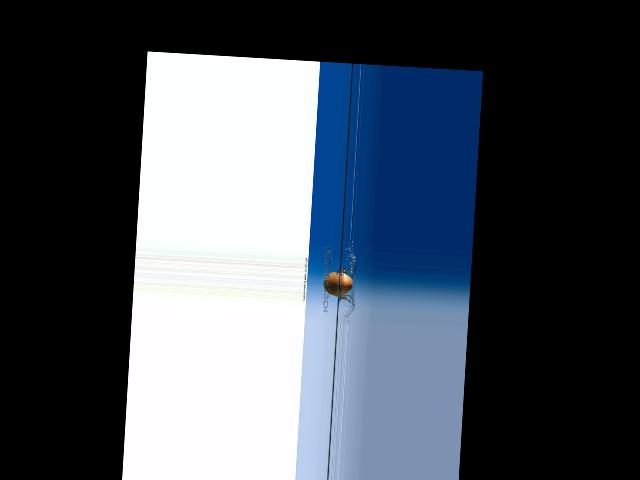egg: (322, 271, 353, 297)
